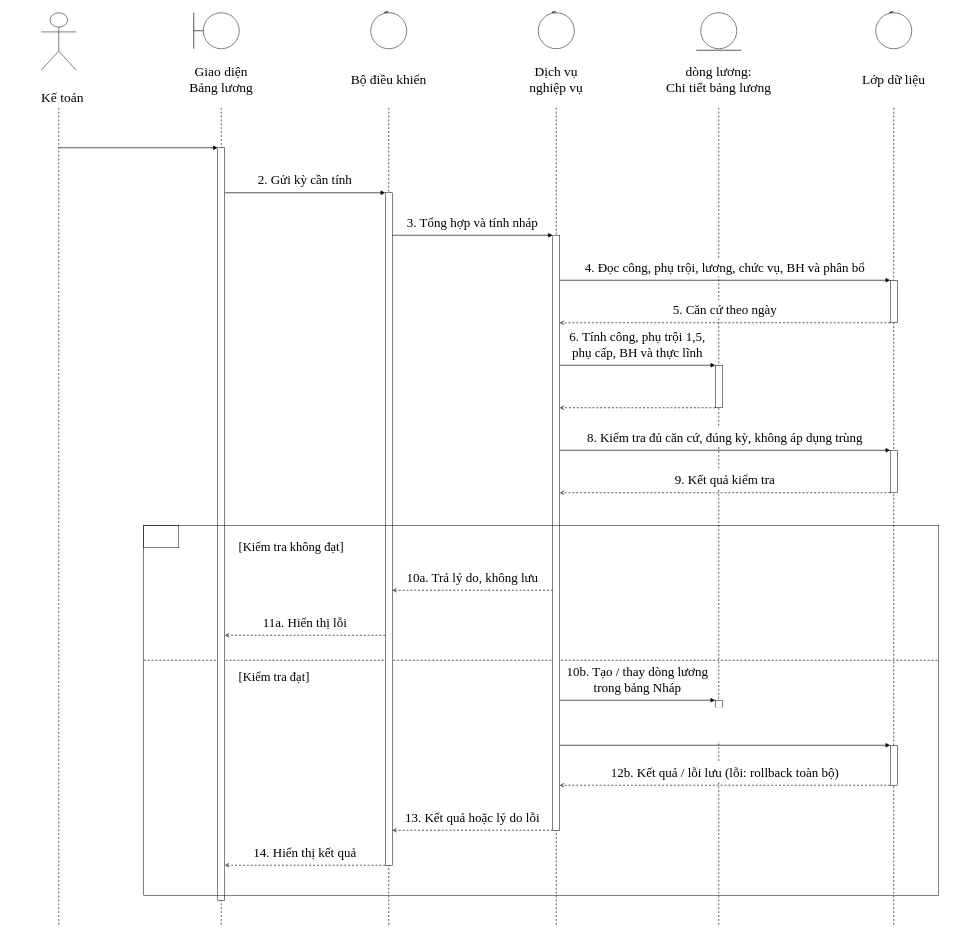
Image size: 970x935. Some labels were removed from this diagram. Each missing label, with the centre of its shape:
"1. Chọn kỳ và giờ chuẩn; yêu cầu tính / tính lại" goes at point (138, 127).
"11b. Lưu bảng Nháp và chi tiết; chưa đánh dấu phân bổ đã áp dụng" goes at point (724, 724).
"7. Số tiền từng khoản" goes at point (637, 394).
"alt" goes at point (161, 536).
